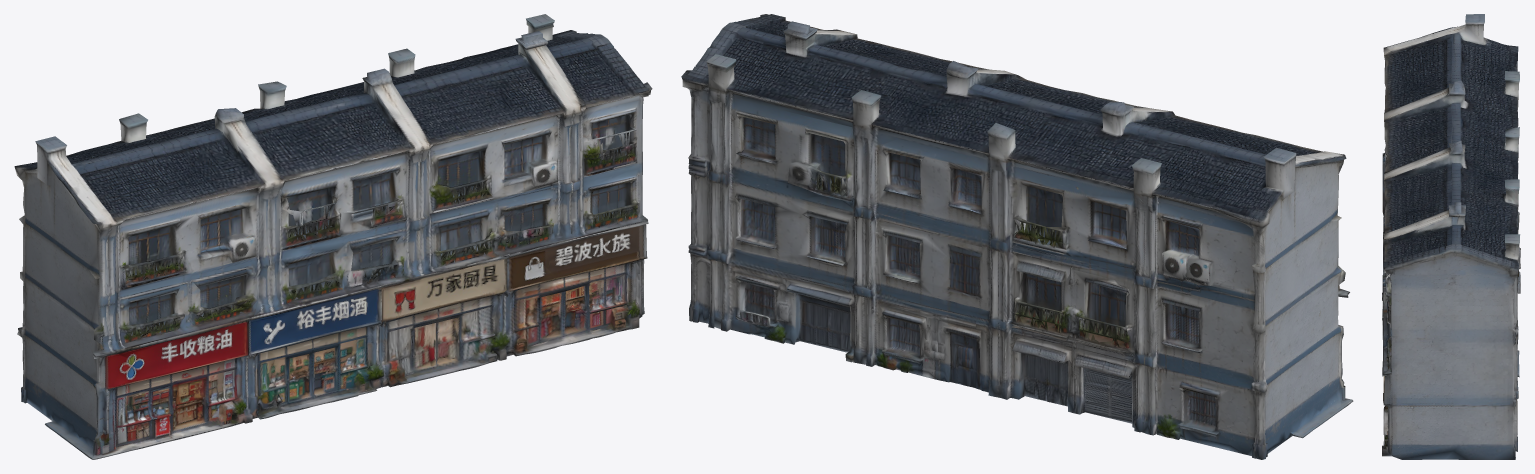
The model's file is storefront_12.glb.
3 renders of one model, left to right at view 1: azimuth 30°, elevation 25°; view 2: azimuth 150°, elevation 25°; view 3: azimuth 270°, elevation 25°, orthographic. The views are drawn at different scales.
Parts seen in each view (by area): view 1: tripo_node_8b3895ce-bcb3-44e7-aa81-b731e595b955; view 2: tripo_node_8b3895ce-bcb3-44e7-aa81-b731e595b955; view 3: tripo_node_8b3895ce-bcb3-44e7-aa81-b731e595b955.
Part boxes in pixels (x1=…): tripo_node_8b3895ce-bcb3-44e7-aa81-b731e595b955: x1=14, y1=14, x2=652, y2=459; tripo_node_8b3895ce-bcb3-44e7-aa81-b731e595b955: x1=681, y1=14, x2=1353, y2=459; tripo_node_8b3895ce-bcb3-44e7-aa81-b731e595b955: x1=1382, y1=14, x2=1520, y2=459.
Size of the model in its own units: 0.9818 by 0.4612 by 0.2556.
Materials: 1 (1 with a texture image).
